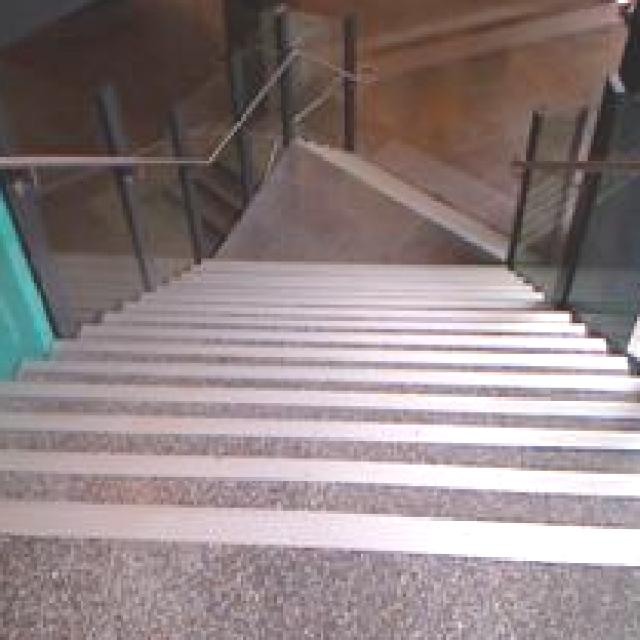downstair: (1, 315, 640, 561)
